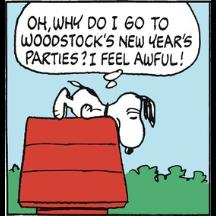snoopy: (52, 79, 158, 155)
